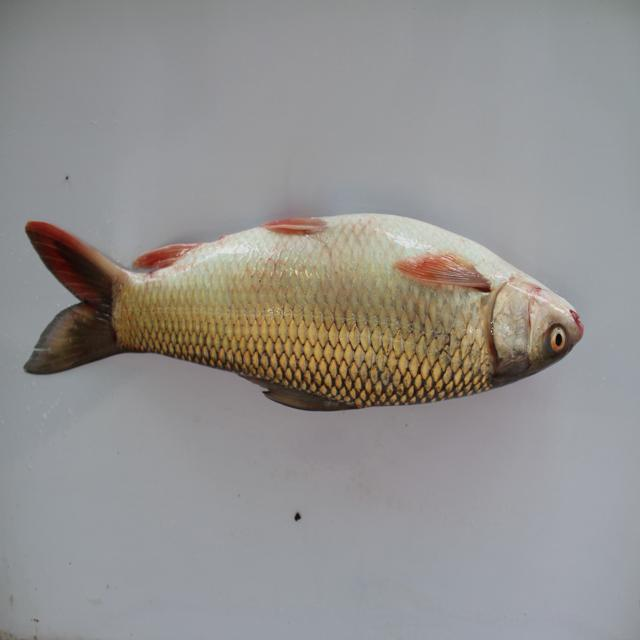Mori: (24, 199, 596, 426)
